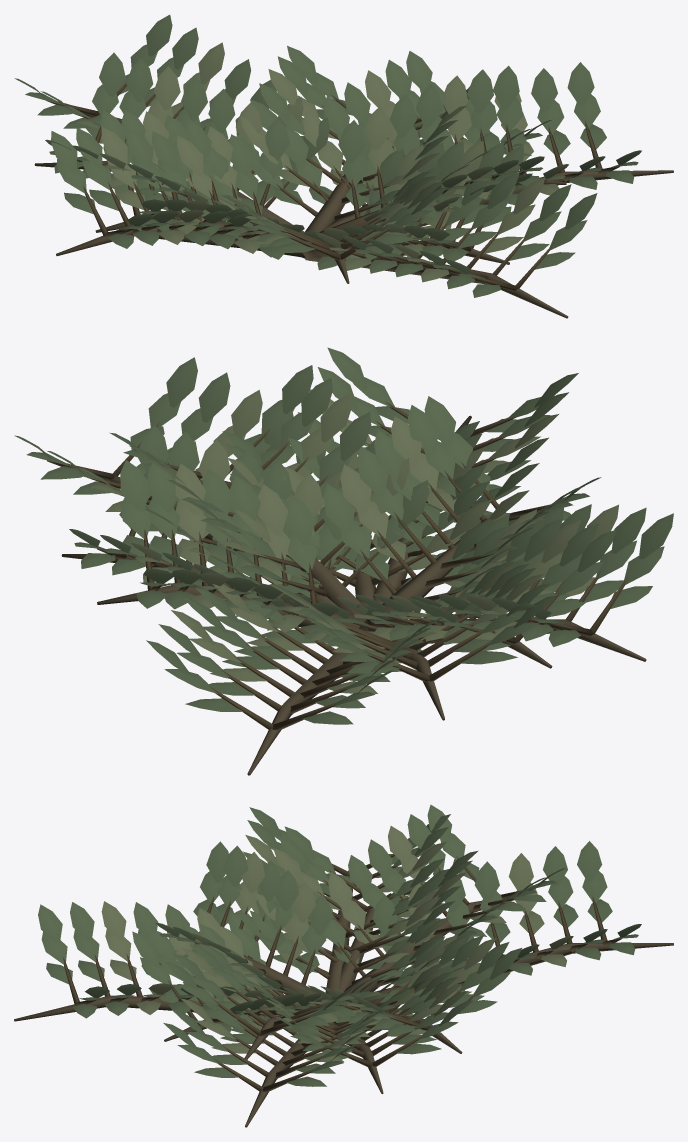
The model's file is cushion.glb.
3 views of the same model, one above another, from view 1: azimuth 30°, elevation 25°; view 2: azimuth 150°, elevation 25°; view 3: azimuth 270°, elevation 25° (orthographic). The views are drawn at different scales.
Visible parts, largest first — view 1: RF07 cushion; view 2: RF07 cushion; view 3: RF07 cushion.
Part boxes in pixels (box(x1,y1,x2,y2)): RF07 cushion: box(14, 14, 673, 318); RF07 cushion: box(14, 347, 673, 775); RF07 cushion: box(14, 804, 673, 1127).
Bounding box in the file's own units: 0.9242 × 0.2123 × 1.01.
